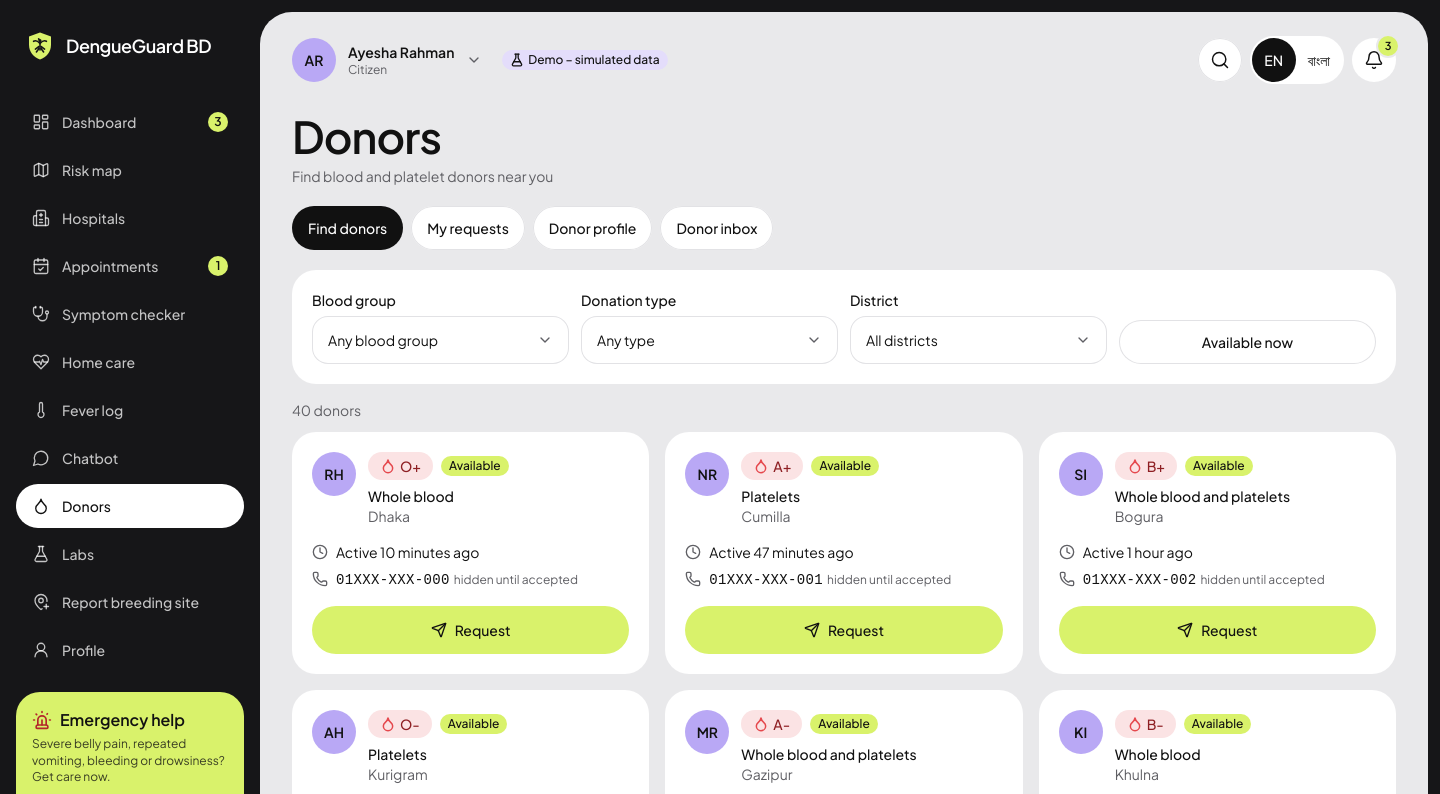
Donors in Bangla › shows masked phones and counts with Bangla digits
Click the button "বাংলা".
click(1319, 60)  # box 1296,38 -> 1342,82
(page scrolled)
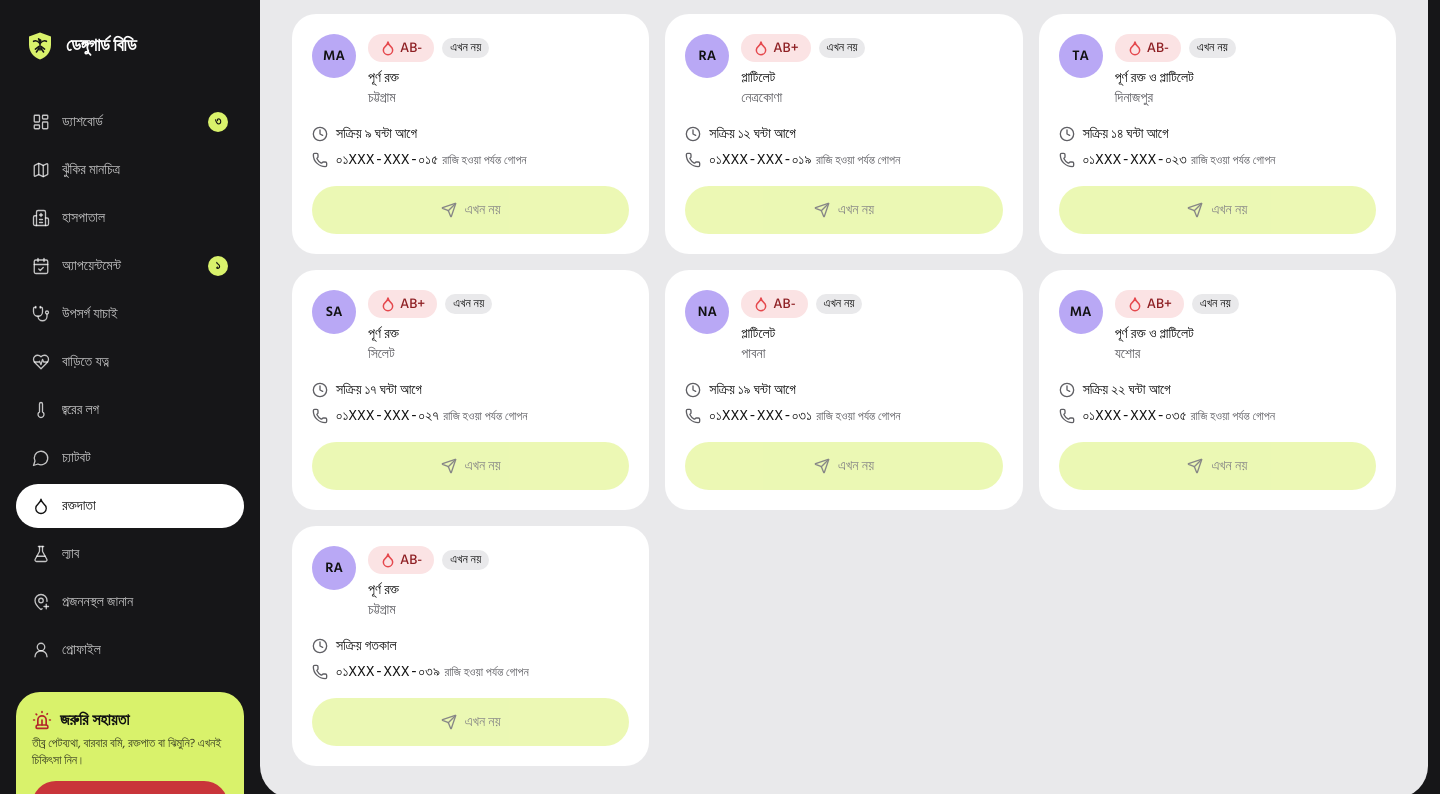
Expected: the text with test id "masked-phone" reads "০১XXX-XXX-০১৫", 336,152 -> 438,168
Expected: the text with test id "masked-phone" reads "০১XXX-XXX-০১৯", 709,152 -> 812,168
Expected: the text with test id "masked-phone" reads "০১XXX-XXX-০২৩", 1083,152 -> 1187,168
